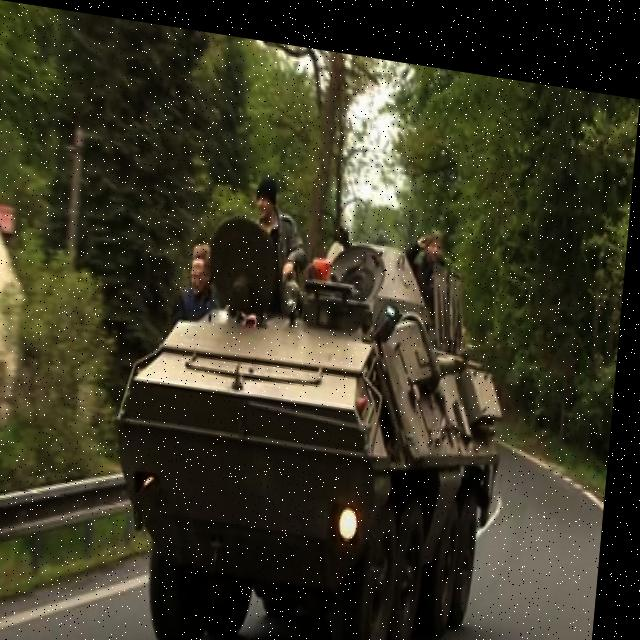MIL_APC: (110, 141, 531, 640)
